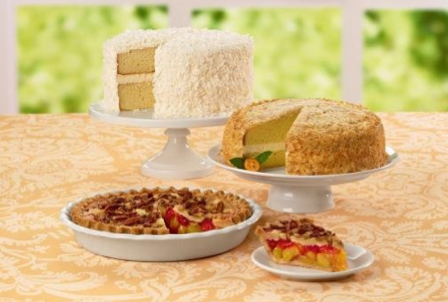sushi: (59, 185, 264, 261)
